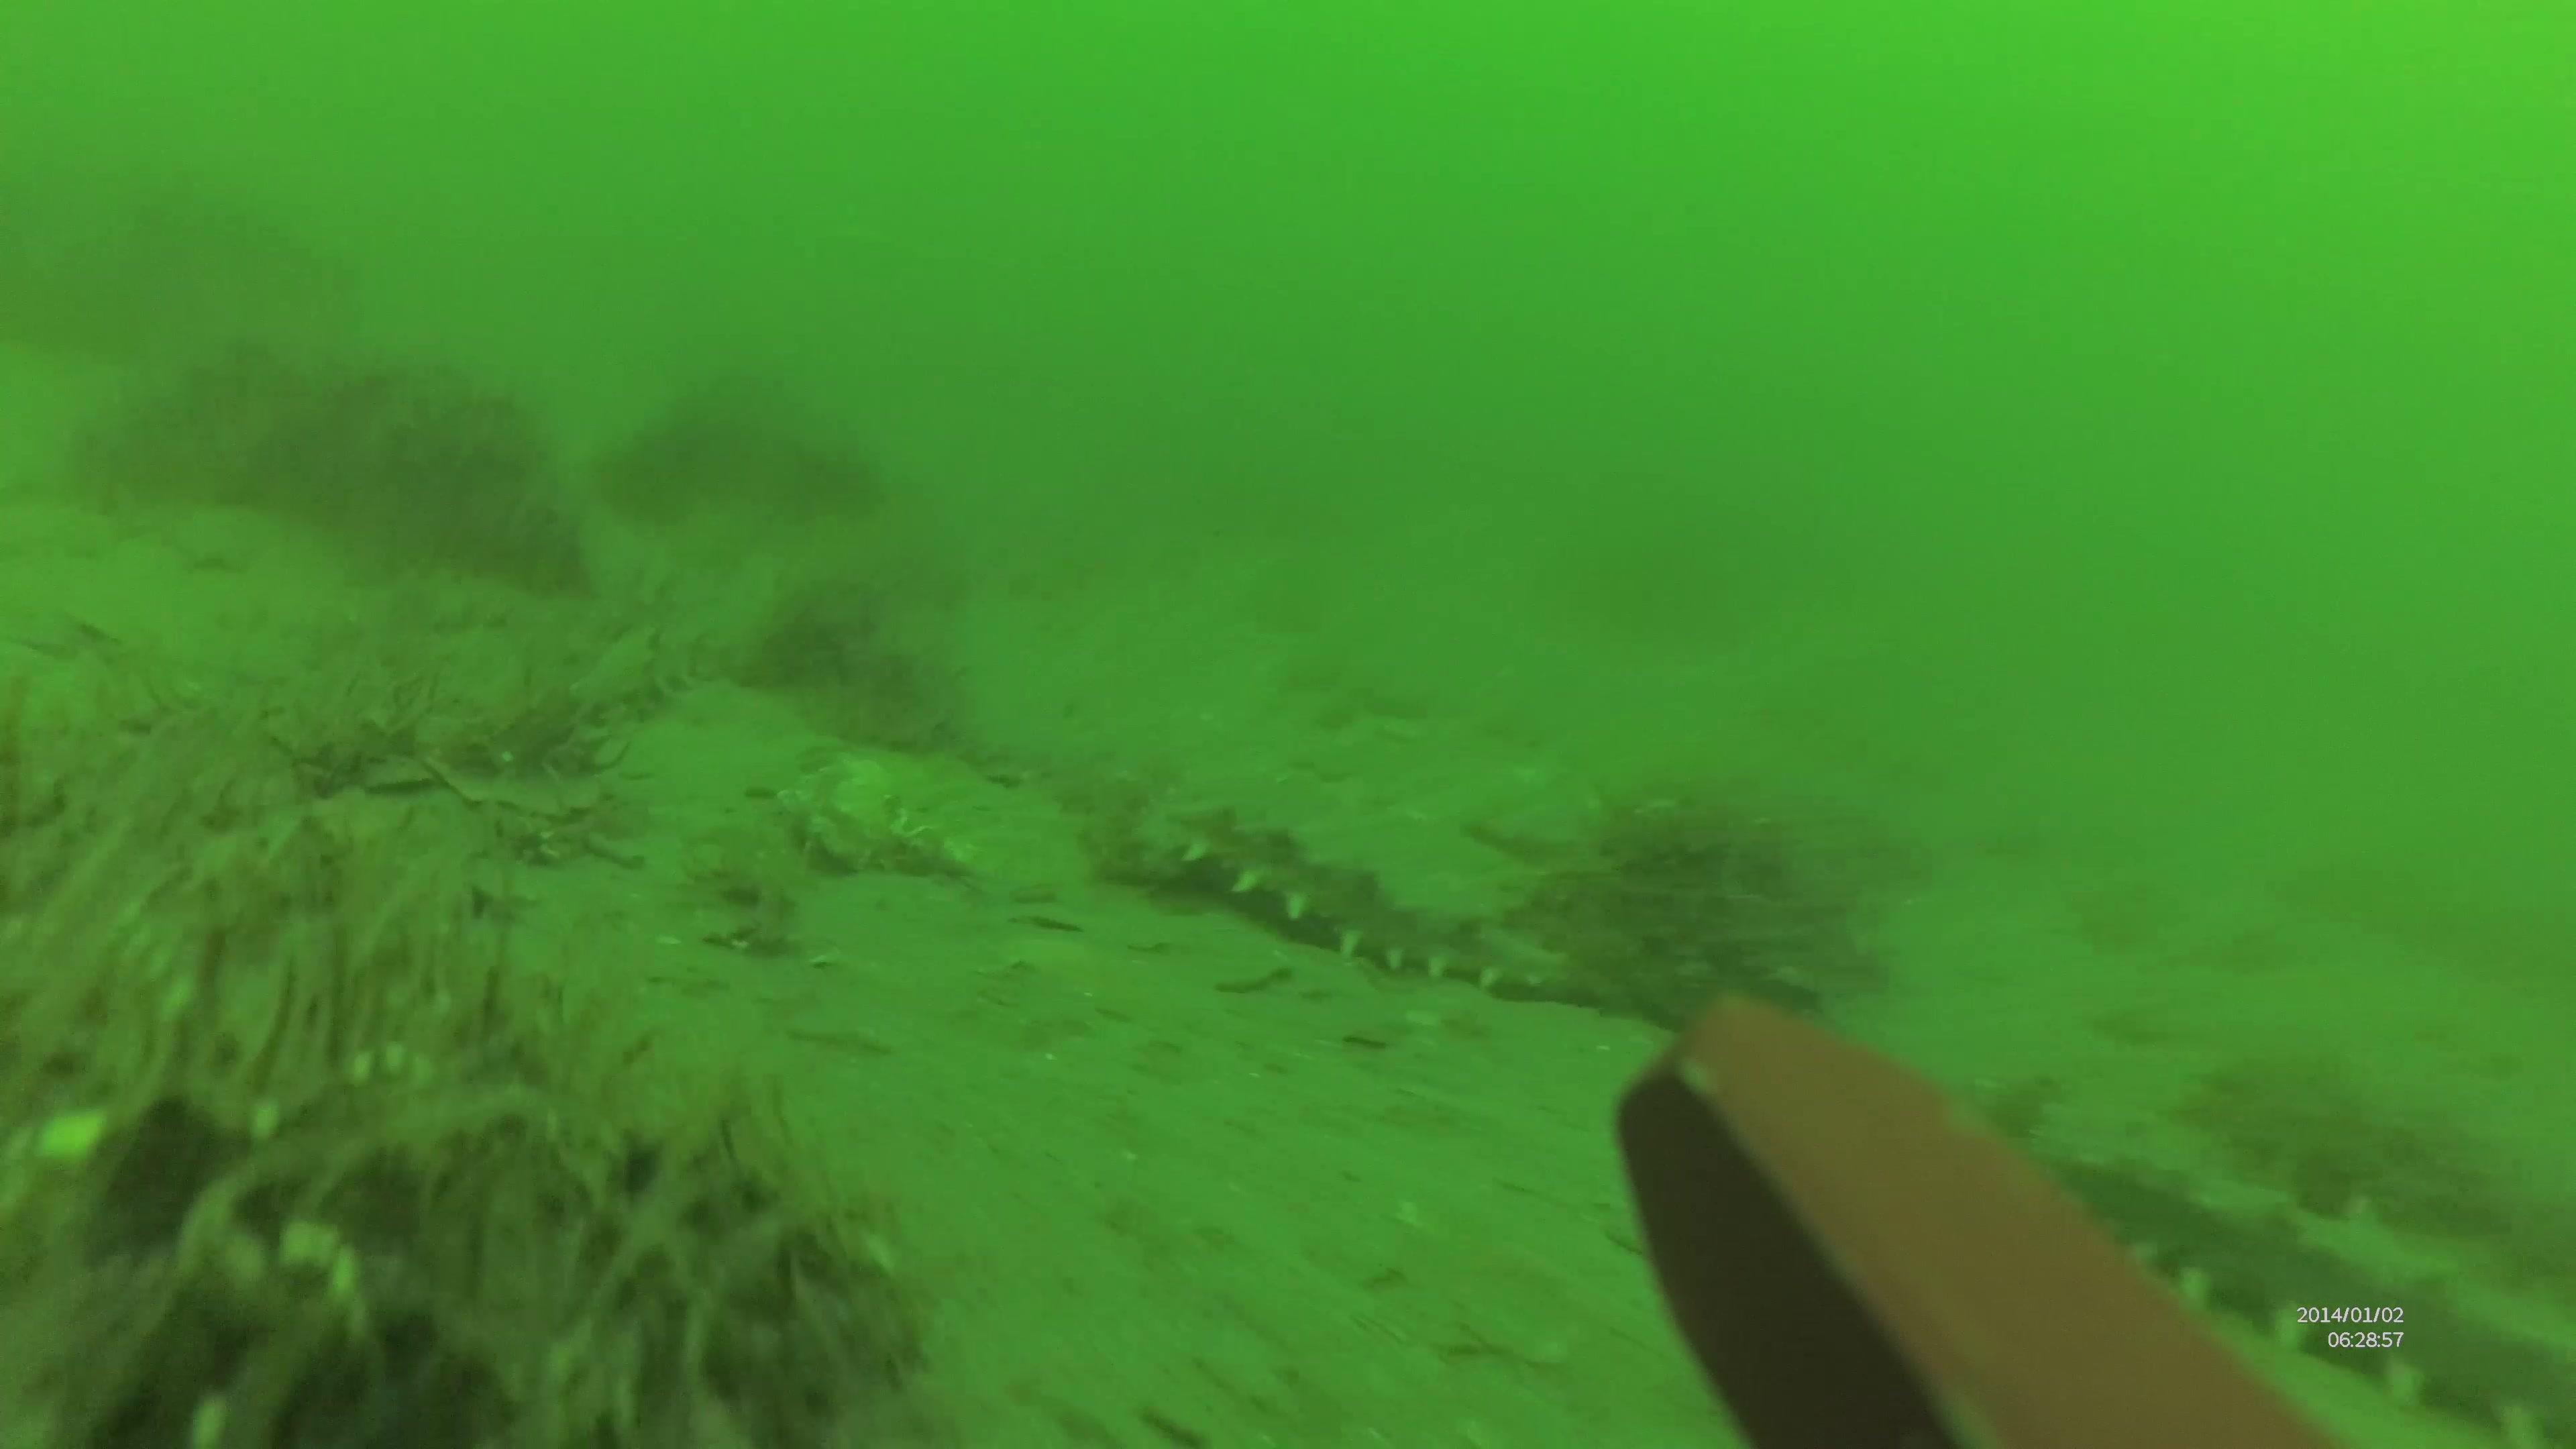holothurian: (2003, 1131, 2576, 1449), (1171, 814, 1575, 1008)
